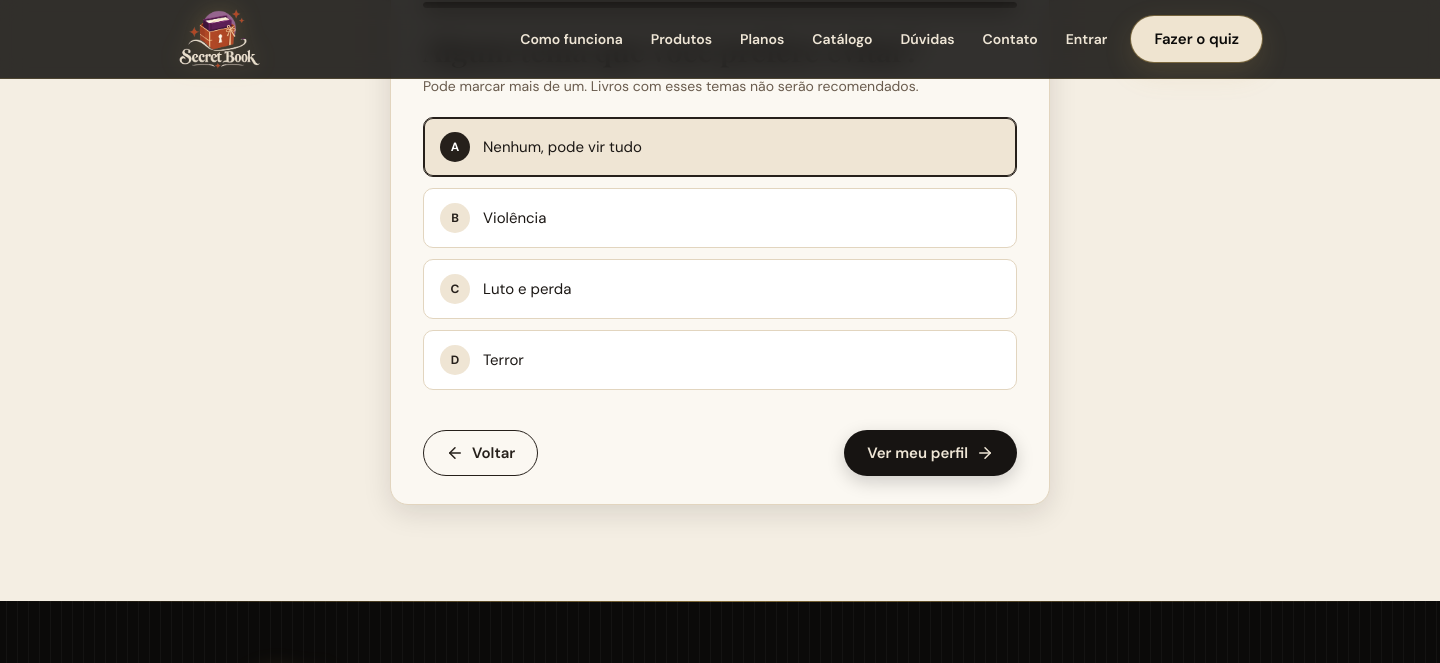
Test: Quiz v2 › mostra o erro do envio e permite tentar de novo
The image size is (1440, 663).
(page scrolled)
Click the button "Ver meu perfil" at (931, 453), box [844,430,1017,476]
(page scrolled)
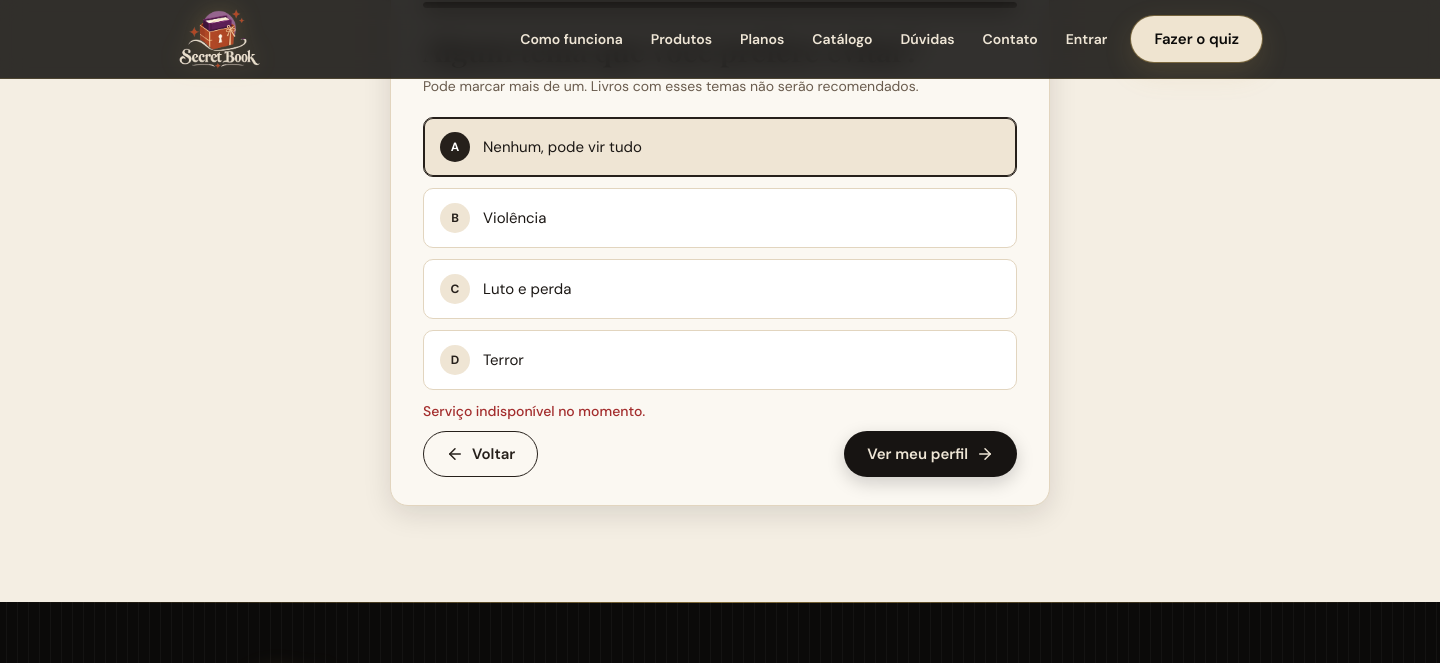
Now the text "Serviço indisponível no momento." is shown, box [423,402,645,420]
